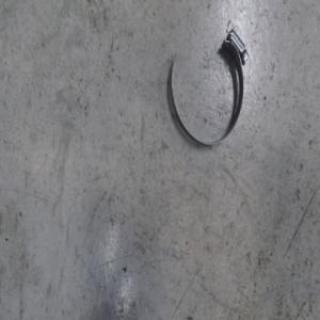AdjustableClamptrack_idkeyframe: (167, 23, 249, 152)
